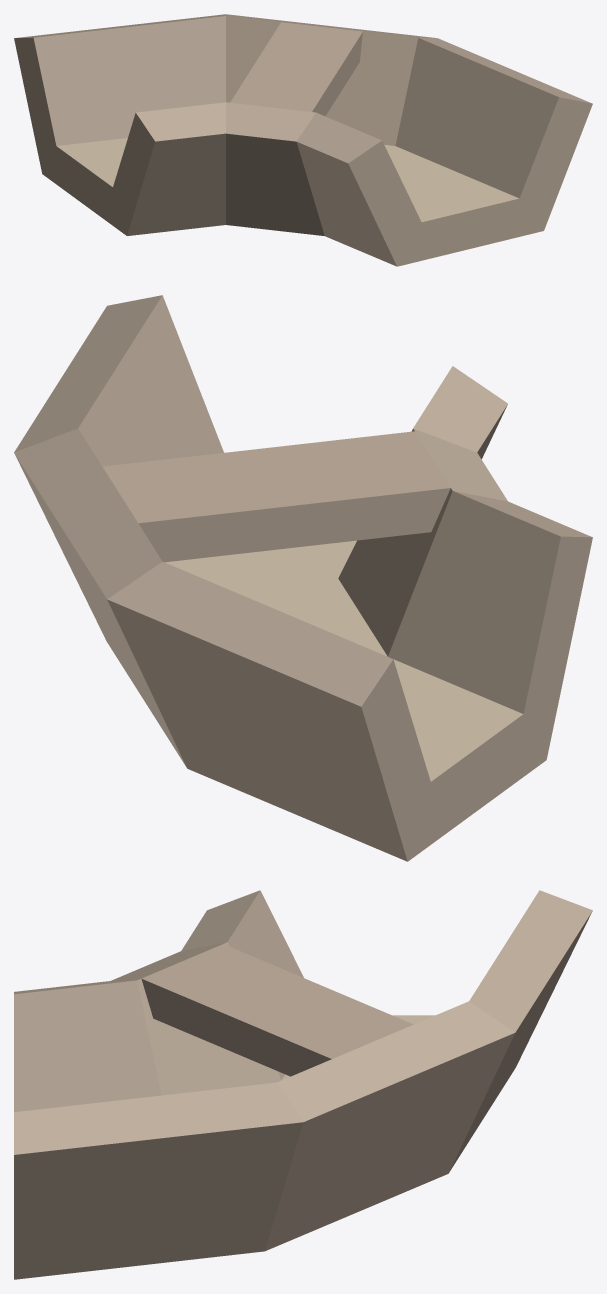
The model's file is Waterwheel_Flume_Curved.glb.
3 views of the same model, one above another, from view 1: azimuth 30°, elevation 25°; view 2: azimuth 150°, elevation 25°; view 3: azimuth 270°, elevation 25° (orthographic). The views are drawn at different scales.
Visible parts, largest first — view 1: flume_corner; view 2: flume_corner; view 3: flume_corner.
Boxes of the visible parts, <box> form: flume_corner: <box>14,14,592,266</box>; flume_corner: <box>14,295,592,861</box>; flume_corner: <box>14,890,592,1279</box>.
Size of the model in its own units: 0.75 by 0.2538 by 0.75.
